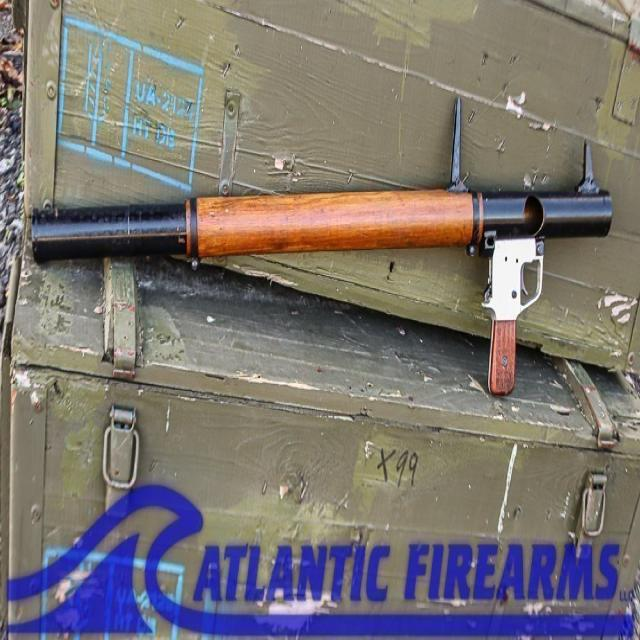bazooka: (25, 137, 628, 395)
